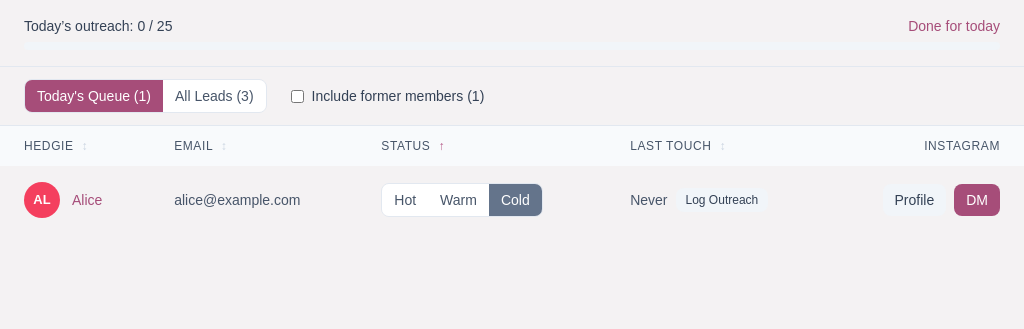
OutreachTable — Today's Queue view (default) › hides the remaining queue once "Done for today" is clicked
What coordinates should you click on to do the following:
click the button "Done for today"
I would click on:
 (954, 26)
Its box is [908, 16, 1000, 36].
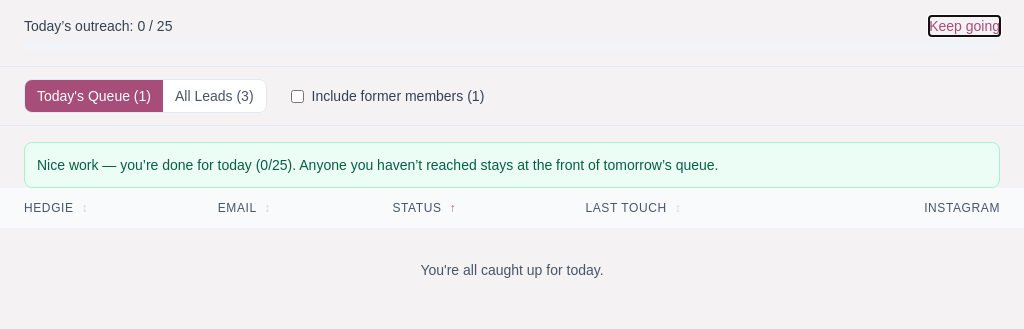
Now the link "Alice" is gone
Now the text "You're all caught up for today." is shown, box [0, 228, 1023, 312]
